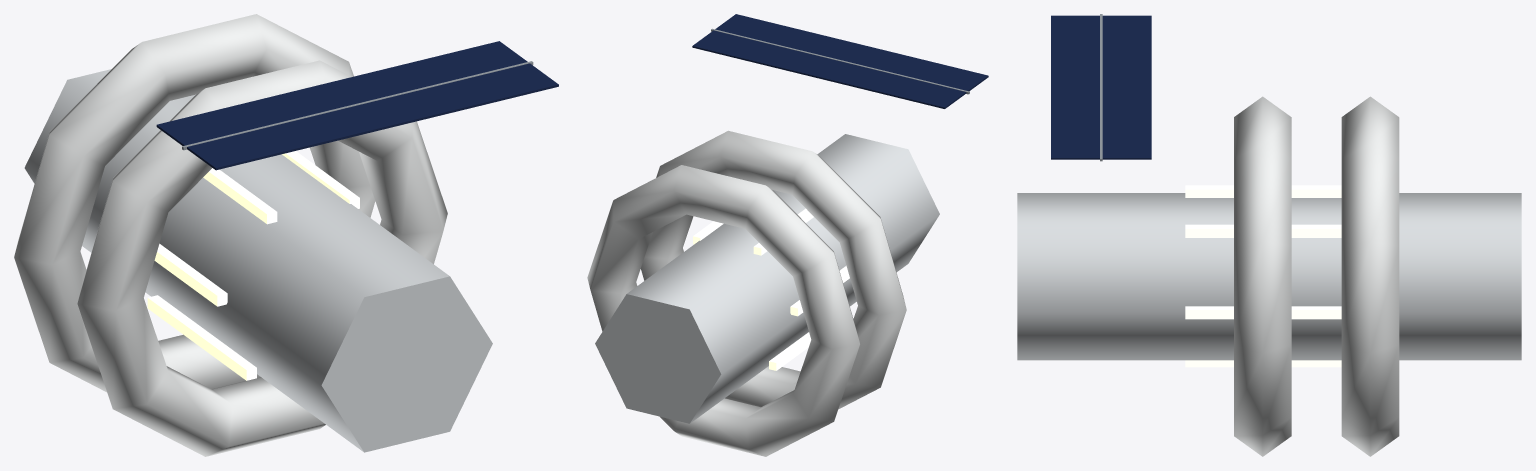
The model's file is space_orbital_habitat_t2_lod1.glb.
3 renders of one model, left to right at view 1: azimuth 30°, elevation 25°; view 2: azimuth 150°, elevation 25°; view 3: azimuth 270°, elevation 25°, orthographic. The views are drawn at different scales.
Visible parts, largest first — view 1: body, solar_0; view 2: body, solar_0; view 3: body, solar_0.
Part boxes in pixels (x1,y1,x2,y2): body: (14, 14, 492, 456); solar_0: (156, 41, 558, 170); body: (587, 130, 939, 456); solar_0: (692, 14, 988, 108); body: (1017, 96, 1521, 456); solar_0: (1051, 14, 1151, 161).
Size of the model in its own units: 10.8 by 11.38 by 15.
